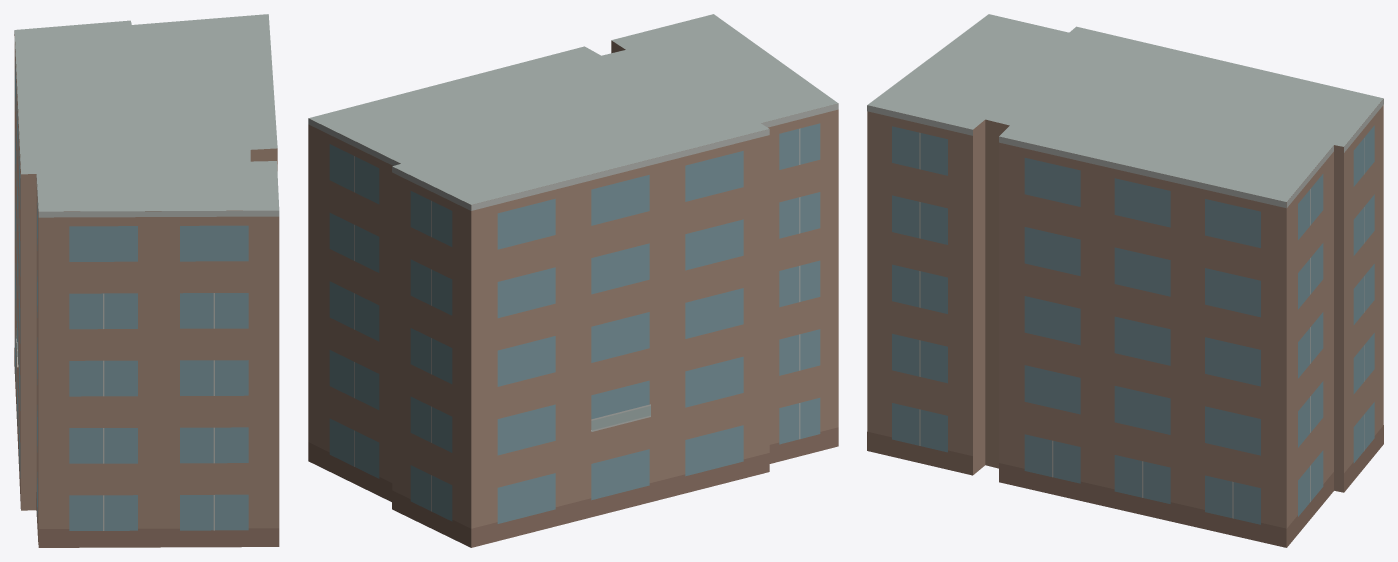
Rendered from survey-upis-32877642.glb.
3 renders of one model, left to right at view 1: azimuth 30°, elevation 25°; view 2: azimuth 150°, elevation 25°; view 3: azimuth 270°, elevation 25°, orthographic. The views are drawn at different scales.
Visible parts, largest first — view 1: survey-upis-32877642.tmp; view 2: survey-upis-32877642.tmp; view 3: survey-upis-32877642.tmp.
Part boxes in pixels (bbox=[...]): survey-upis-32877642.tmp: bbox=[14, 14, 279, 547]; survey-upis-32877642.tmp: bbox=[308, 14, 838, 547]; survey-upis-32877642.tmp: bbox=[867, 14, 1383, 547].
Bounding box in the file's own units: 15.99 × 13.7 × 18.56.
